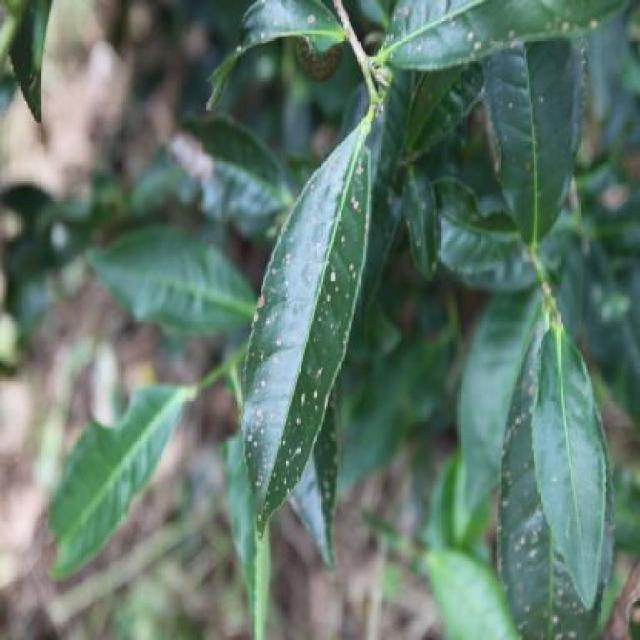Leaf rust of tea: (237, 99, 375, 526)
